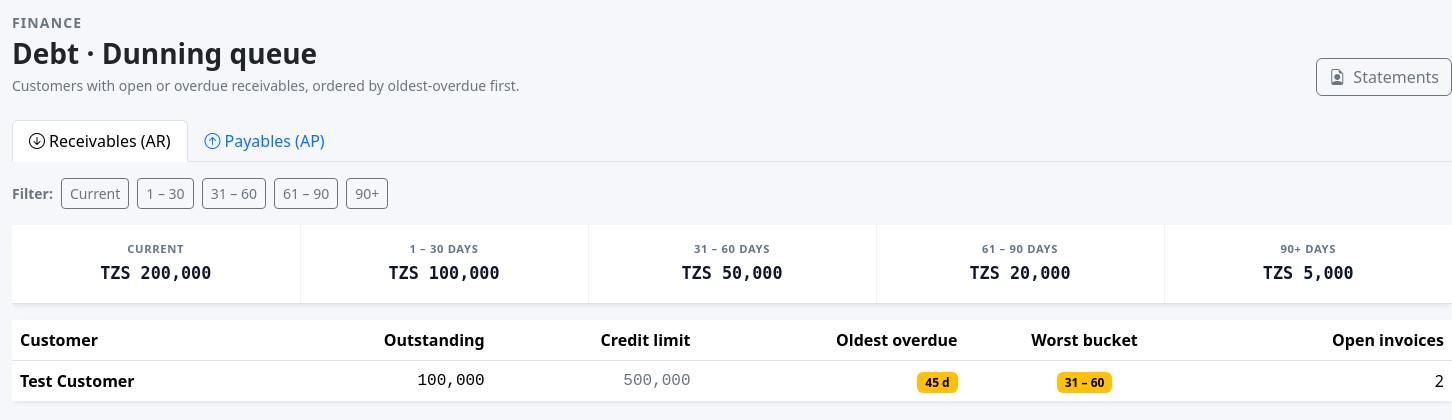
Test: DebtComponent — Slice G.1 AR/AP tab toggle › Switching back to AR tab › re-renders AR table when switching back
Click the tab with id "tab-ap" at (265, 141), box [188,120,342,162]
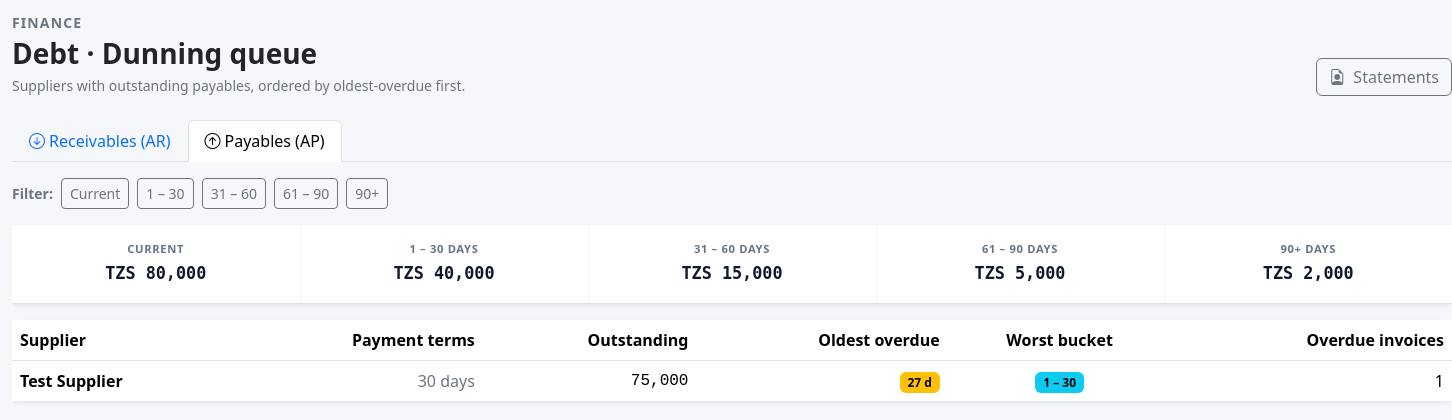
Click the tab with id "tab-ar" at (100, 141), box [12,120,188,162]
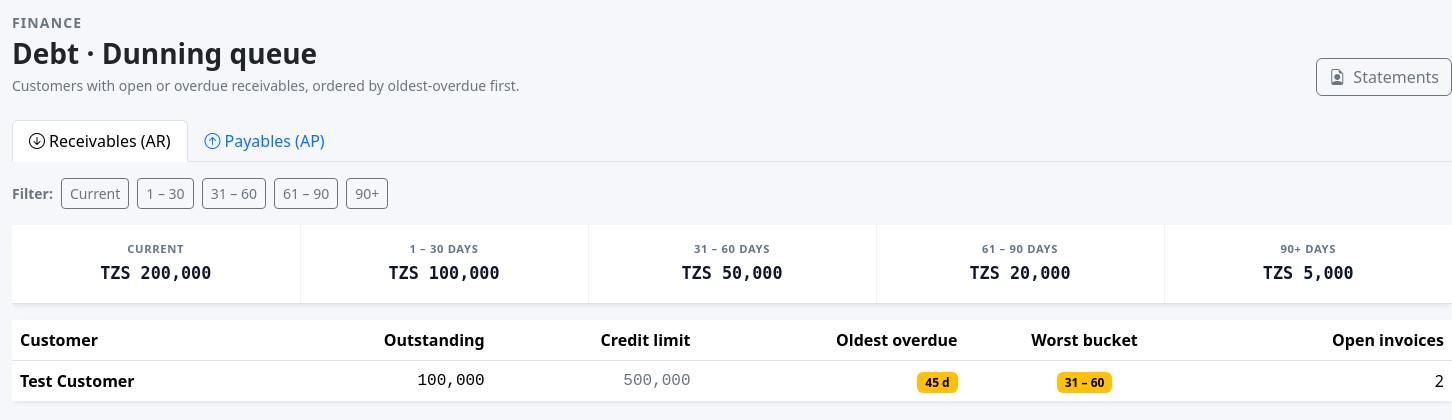
Expected: the table with test id "debt-dunning-table" is shown, [12,320,1451,401]
